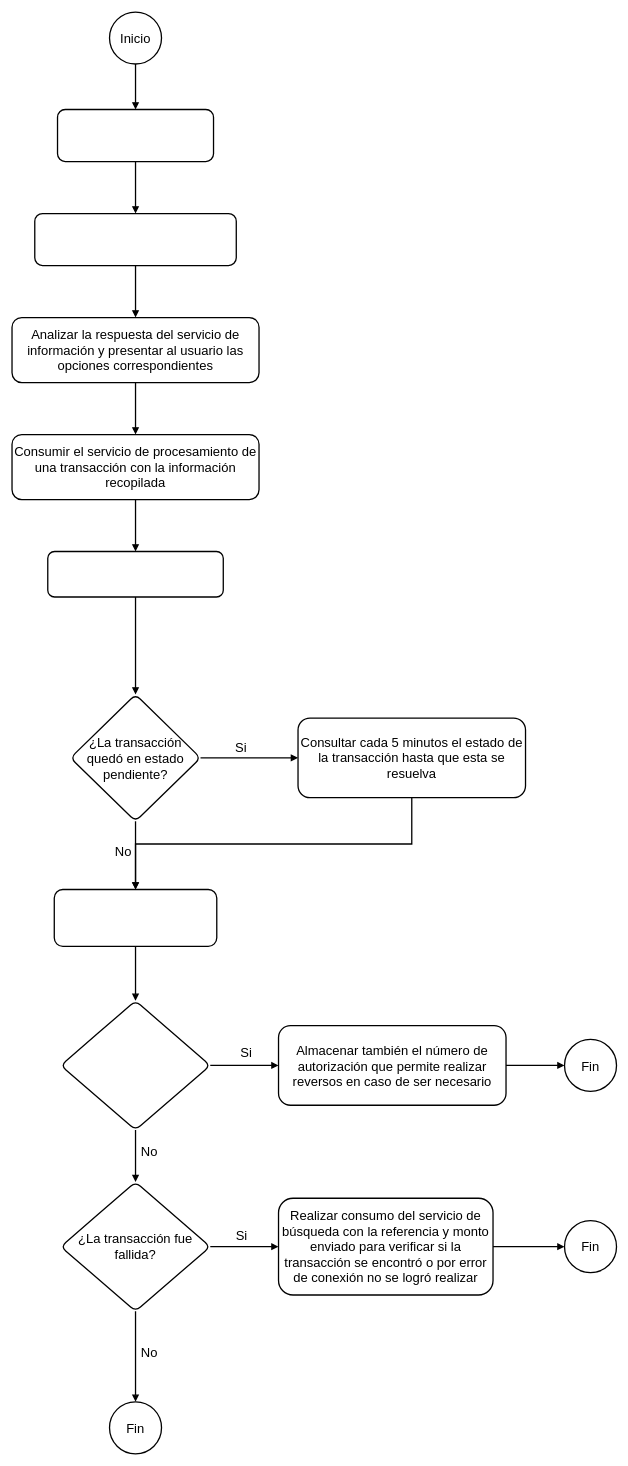
The diagram is 628 pixels wide and 1466 high, and some of its shapes have lost their labels. Each missing label, with the box of its shape:
Actualizar el estado de la transacción en el sistema: (53, 889, 217, 947)
Analizar la respuesta del servicio: (47, 551, 224, 597)
Capturar el número de tarjeta del usuario: (57, 109, 214, 162)
Consumir el servicio de información con el número de tarjeta capturado: (34, 213, 237, 266)
¿La transacción fue aprobada?: (60, 1000, 211, 1130)
